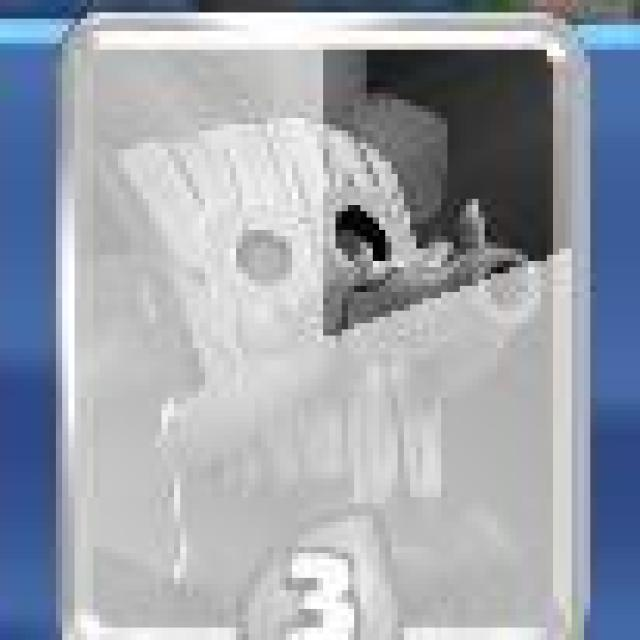Dart_Goblin: (47, 5, 599, 640)
